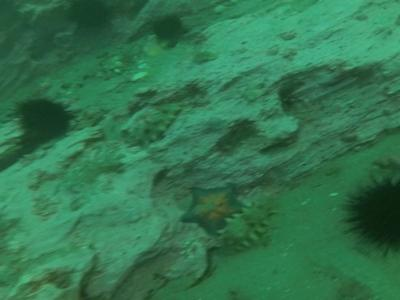holothurian: (216, 203, 279, 254), (125, 102, 183, 149)
urchin: (339, 171, 396, 257), (11, 97, 77, 155), (151, 15, 183, 40)
